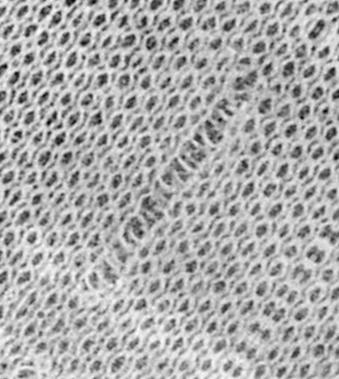slub: (77, 67, 264, 295)
